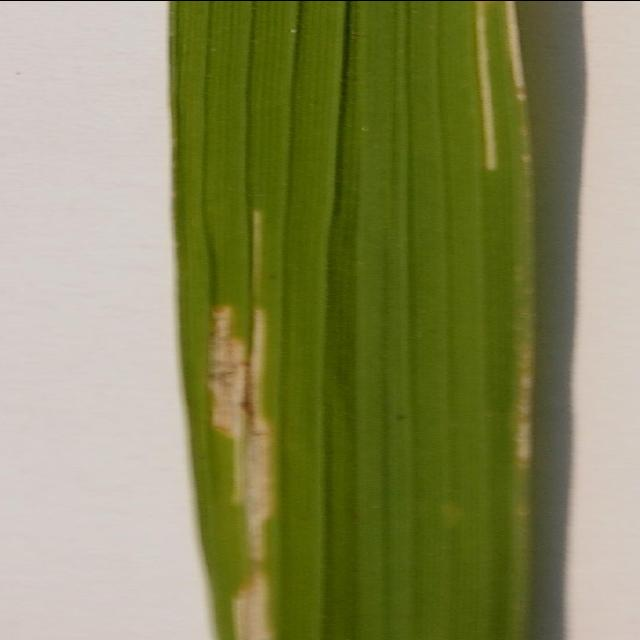Bacterial_Leaf_Blight: (168, 171, 310, 640), (431, 0, 617, 185)
